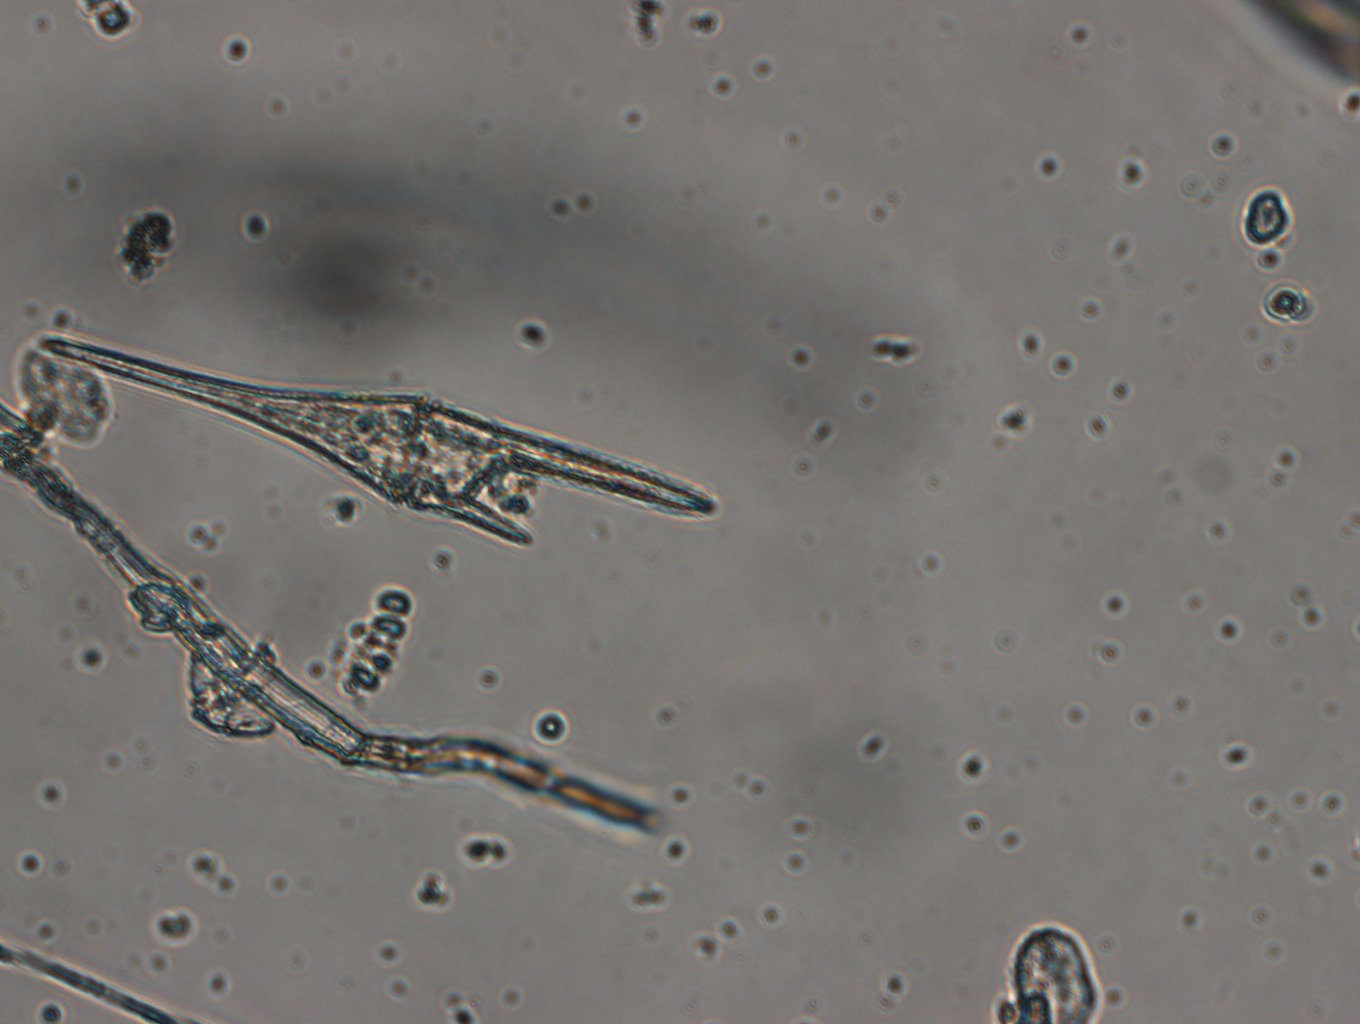ceratium furca: (32, 328, 724, 553)
